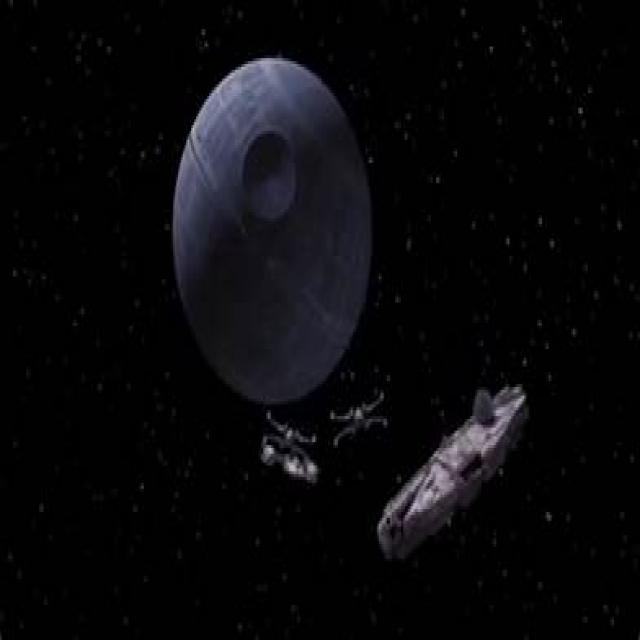deathStar: (173, 50, 366, 401)
